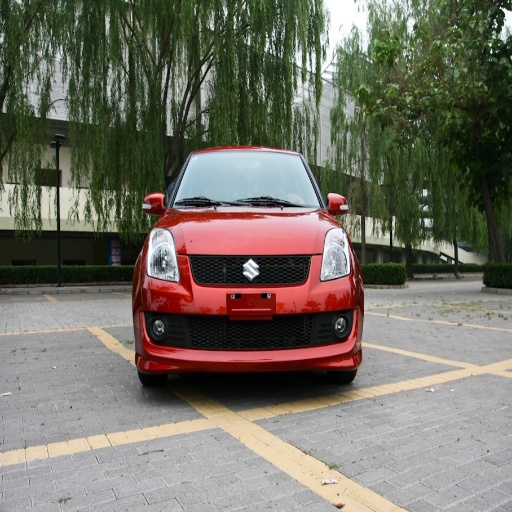front_bumper: (140, 254, 358, 372)
front_right_light: (145, 229, 183, 284)
hood: (161, 207, 333, 253)
